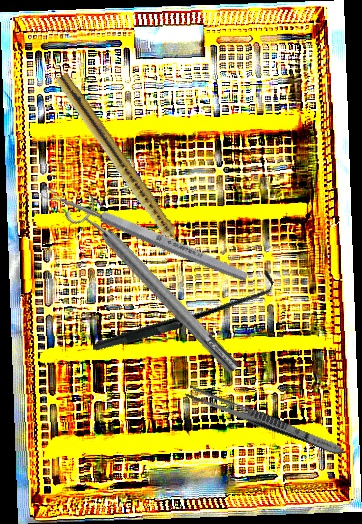Dressing Forceps: (182, 383, 348, 460)
Fixation Ring: (62, 189, 248, 384)
Handpiece: (51, 72, 192, 261)
Hook Surgical: (92, 221, 277, 403)
Surgical Spoon: (39, 183, 250, 285)
